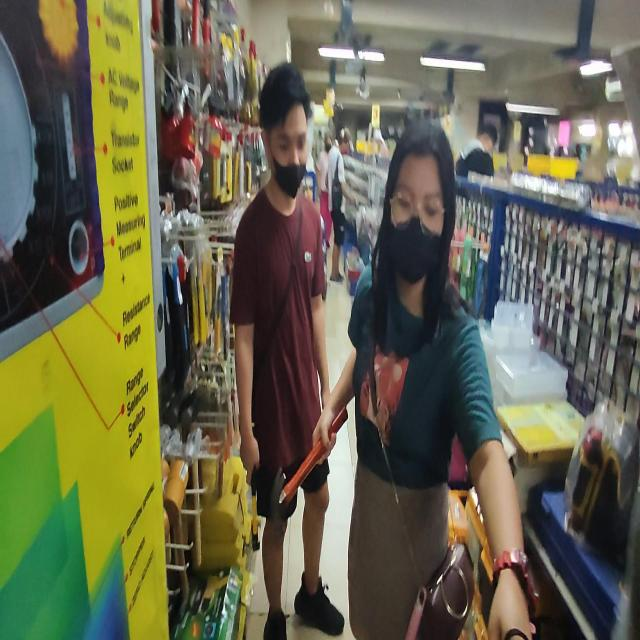hammer: (272, 406, 348, 538), (250, 421, 260, 552)
